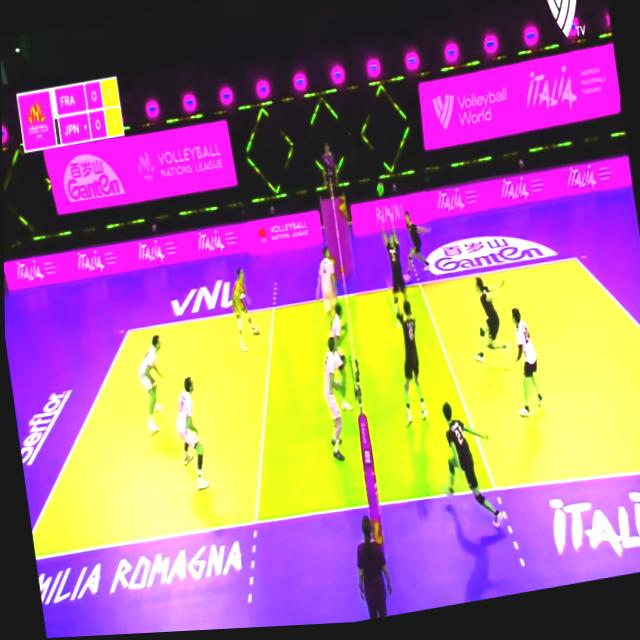player: (432, 401, 503, 540), (385, 291, 435, 431), (164, 372, 216, 498), (461, 275, 517, 379), (375, 209, 417, 340), (314, 339, 354, 472), (129, 326, 174, 442), (502, 311, 541, 427), (224, 262, 263, 361), (323, 307, 356, 420), (395, 198, 435, 285), (308, 238, 345, 332)
